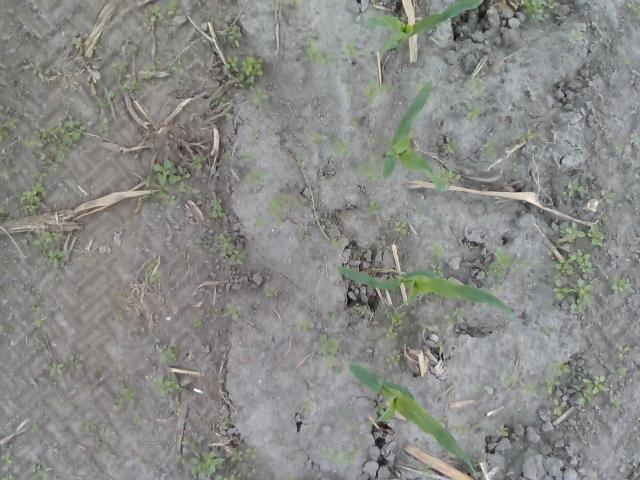Maize: (347, 364, 477, 466), (338, 264, 514, 317), (365, 0, 485, 54), (382, 78, 434, 182)
Weeds: (24, 113, 88, 166), (552, 249, 594, 314), (142, 158, 190, 209), (30, 223, 66, 268), (223, 55, 264, 88), (214, 232, 248, 267), (318, 334, 344, 377), (15, 183, 48, 216), (302, 33, 334, 67), (574, 376, 610, 406), (190, 450, 226, 480), (486, 246, 518, 278), (520, 0, 560, 24), (153, 374, 185, 401), (319, 446, 359, 466), (586, 214, 609, 248), (265, 194, 291, 224), (0, 106, 19, 142), (385, 310, 407, 338), (609, 274, 636, 296), (358, 158, 381, 183), (559, 221, 585, 243), (562, 174, 585, 197), (228, 446, 257, 464), (430, 237, 448, 264), (442, 306, 466, 326), (240, 170, 268, 186), (467, 77, 488, 98), (222, 302, 244, 322), (223, 25, 242, 48), (305, 128, 329, 146), (113, 384, 137, 402), (382, 348, 401, 370), (439, 168, 462, 186), (208, 196, 226, 219), (292, 319, 316, 336), (158, 344, 178, 364), (330, 140, 352, 158), (146, 2, 164, 23), (194, 237, 213, 256), (542, 374, 560, 394), (478, 142, 498, 160), (550, 360, 572, 376), (31, 62, 49, 81), (31, 461, 49, 480), (393, 216, 410, 236), (251, 88, 272, 104), (520, 382, 538, 400), (498, 372, 516, 390), (271, 430, 289, 448), (47, 360, 66, 377), (552, 396, 568, 416), (362, 78, 378, 98), (342, 40, 359, 57), (140, 62, 156, 80), (120, 77, 142, 90), (216, 469, 242, 480), (62, 34, 82, 48), (190, 154, 207, 170), (520, 127, 538, 142), (608, 366, 632, 377), (99, 112, 112, 132), (625, 0, 640, 17), (354, 303, 372, 317), (466, 104, 481, 120), (419, 464, 434, 480), (616, 344, 631, 359), (144, 270, 160, 284), (330, 235, 344, 251), (600, 189, 616, 203), (367, 200, 381, 216), (627, 463, 640, 480), (0, 206, 12, 224), (560, 46, 572, 64), (432, 262, 444, 280), (446, 136, 458, 154), (70, 352, 82, 370), (0, 452, 15, 466), (343, 420, 358, 434), (298, 222, 309, 241), (32, 169, 48, 182), (0, 166, 18, 177), (238, 151, 256, 162), (247, 128, 259, 144), (522, 258, 538, 270), (110, 62, 126, 73), (96, 96, 110, 108), (381, 84, 402, 92), (512, 160, 526, 172), (47, 440, 59, 454), (31, 318, 46, 329), (79, 255, 97, 264), (168, 0, 178, 16), (456, 420, 466, 436), (133, 414, 146, 426), (303, 400, 315, 413), (496, 424, 508, 437), (95, 440, 110, 450), (214, 94, 226, 106), (82, 419, 93, 432), (342, 84, 353, 97), (191, 318, 204, 329), (375, 400, 385, 414), (172, 62, 186, 72), (348, 114, 358, 128), (469, 382, 482, 392), (30, 420, 40, 433), (175, 454, 188, 464), (247, 466, 256, 480), (296, 151, 304, 166), (114, 312, 126, 322), (218, 414, 228, 426), (352, 436, 364, 446), (0, 473, 16, 480), (544, 325, 554, 336), (366, 131, 376, 142), (415, 82, 426, 92), (610, 399, 622, 408), (328, 311, 338, 321), (0, 323, 9, 334), (494, 283, 504, 292), (254, 216, 264, 225), (629, 132, 637, 143), (288, 0, 302, 6), (575, 31, 584, 40), (470, 458, 480, 466), (31, 304, 38, 313), (110, 91, 118, 98)
